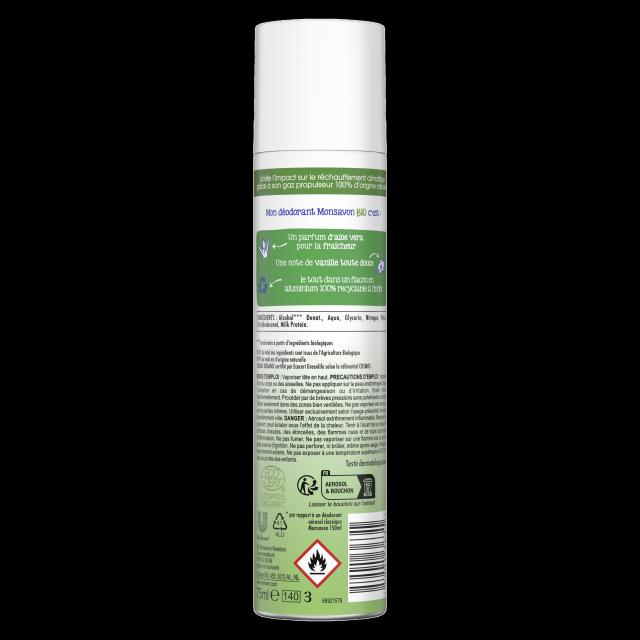GHS_Symbol_FLAME: (295, 538, 342, 589)
